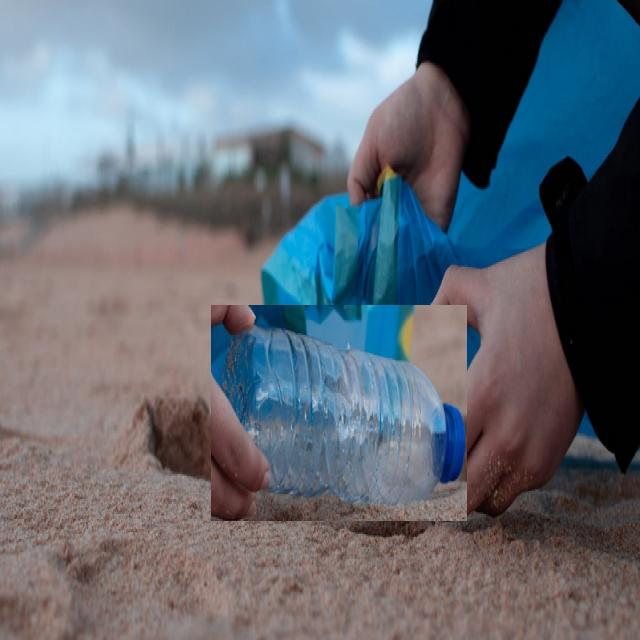Plastic Bottle: (211, 305, 467, 521)
